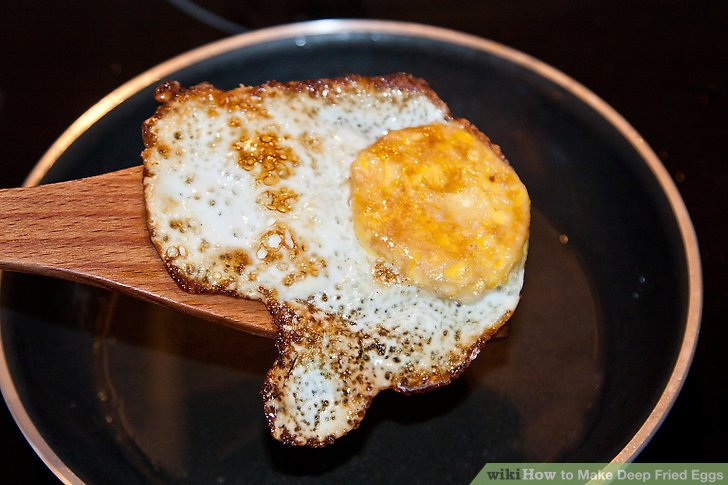fried egg: (161, 88, 515, 373)
